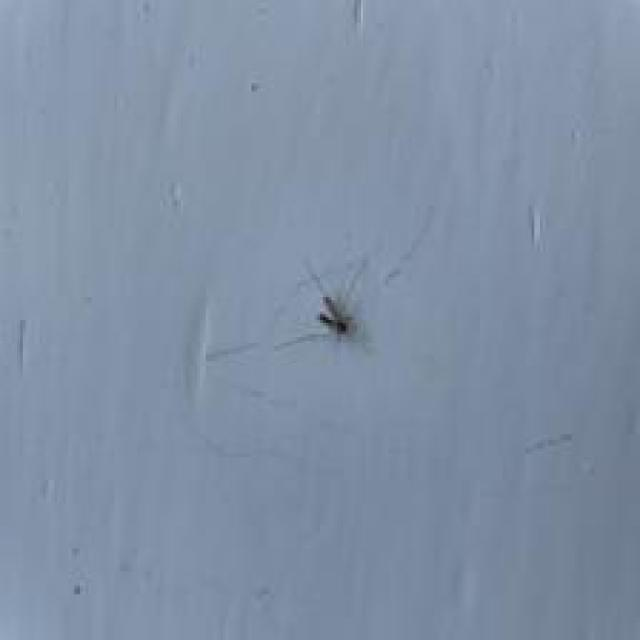Culex: (316, 294, 356, 340)
